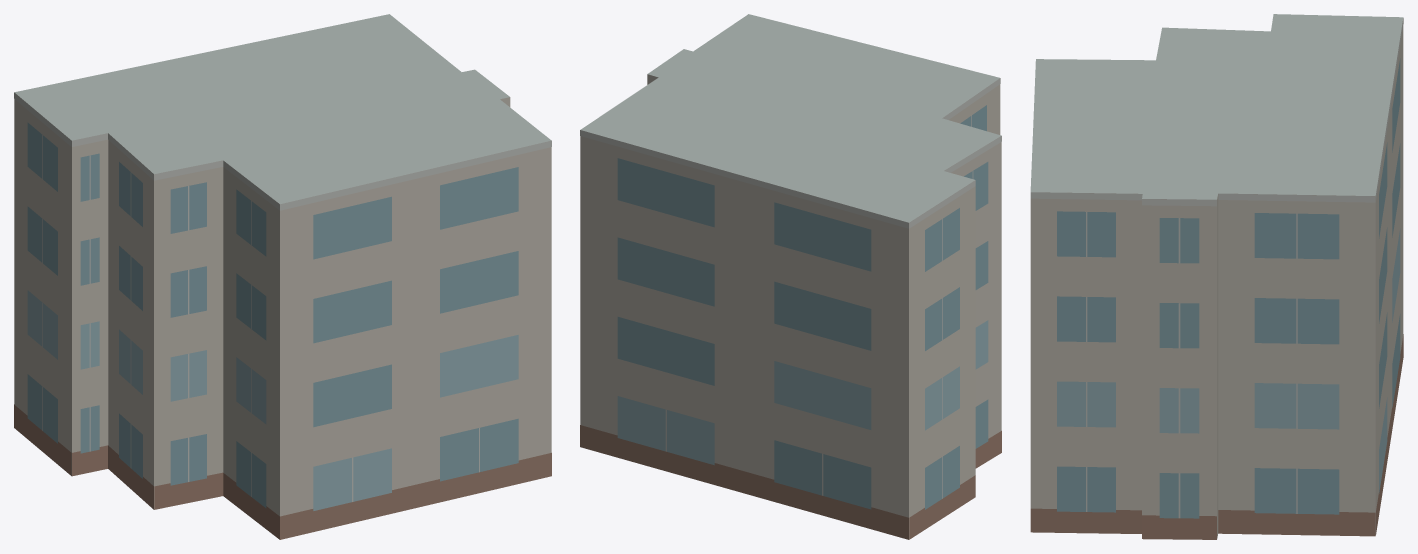
The model's file is survey-upis-32662385.glb.
3 views of the same model, side by side, from view 1: azimuth 30°, elevation 25°; view 2: azimuth 150°, elevation 25°; view 3: azimuth 270°, elevation 25° (orthographic). The views are drawn at different scales.
Parts seen in each view (by area): view 1: survey-upis-32662385.tmp; view 2: survey-upis-32662385.tmp; view 3: survey-upis-32662385.tmp.
Part boxes in pixels (x1,y1,x2,y2): survey-upis-32662385.tmp: (14, 14, 551, 539); survey-upis-32662385.tmp: (580, 14, 1001, 539); survey-upis-32662385.tmp: (1030, 14, 1403, 539).
Bounding box in the file's own units: 14.88 × 12.7 × 12.63.
